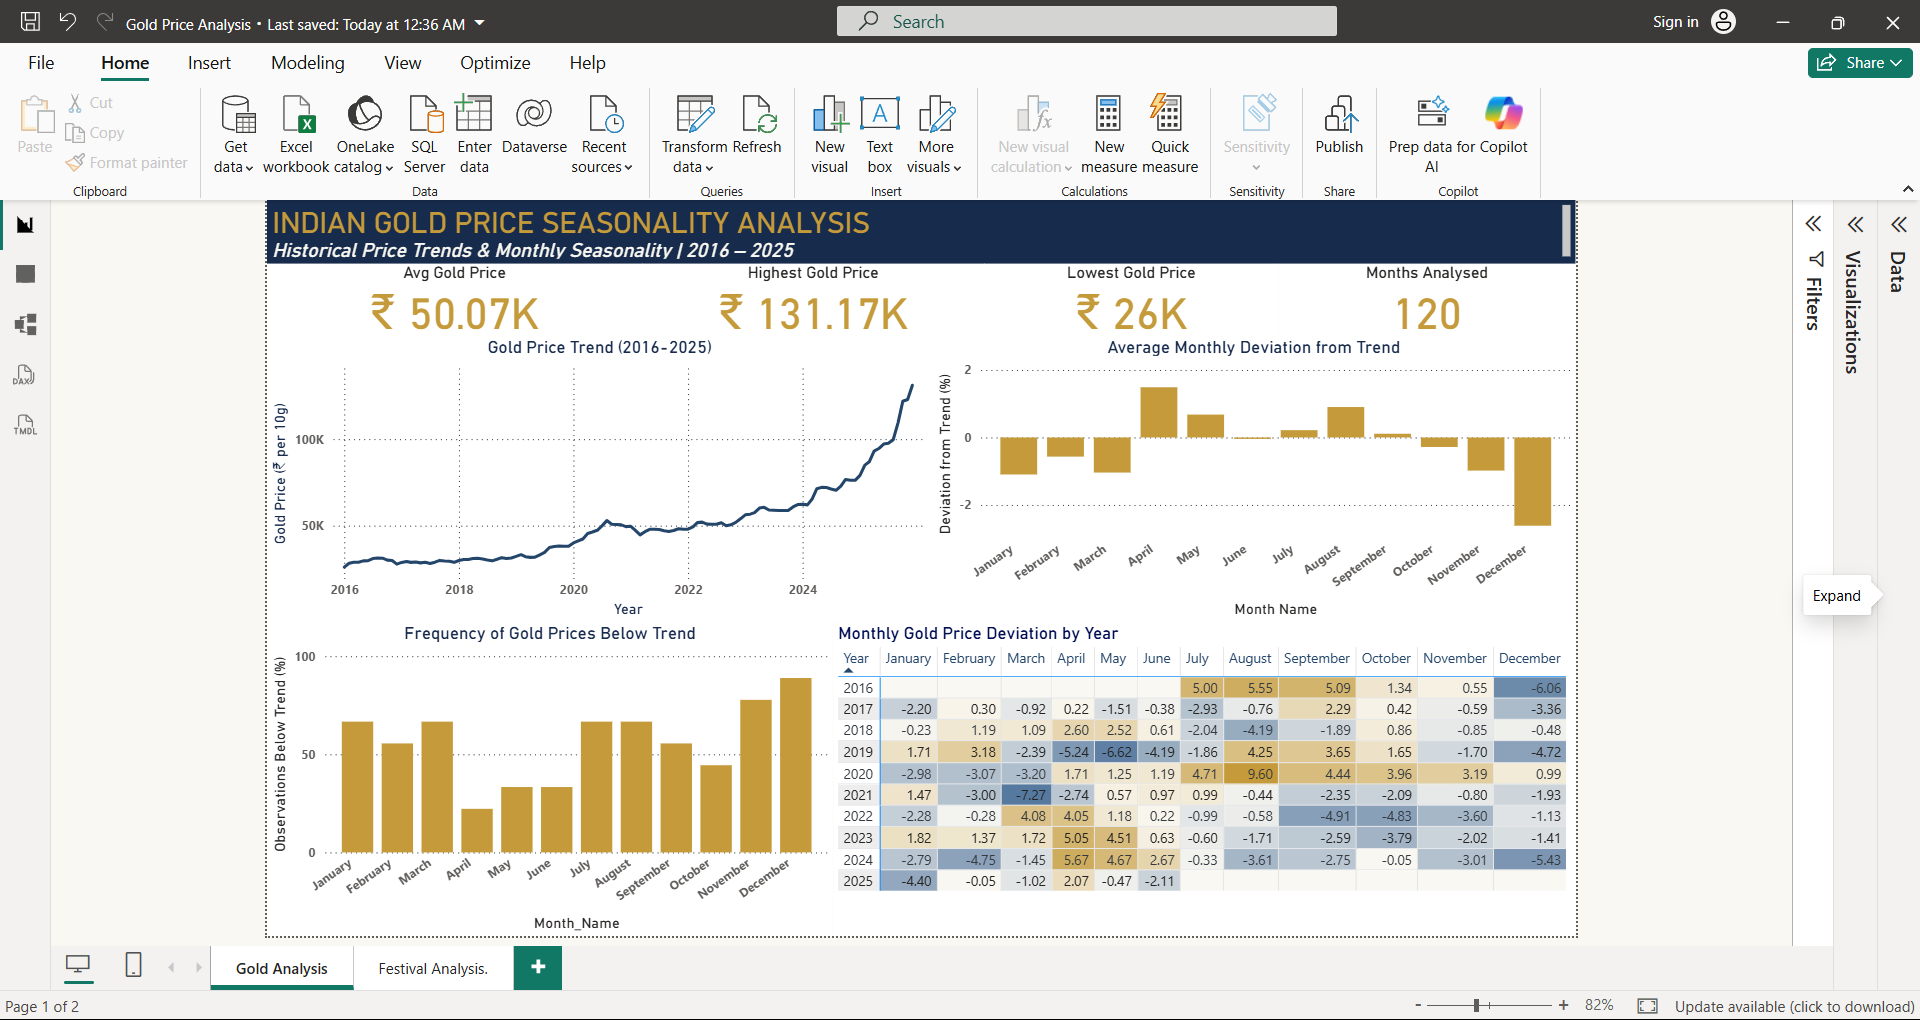

This screenshot's page, from the dashboard's own definition file:
{"tool":"powerbi","page":{"name":"Gold Analysis","canvas":[1280,720],"ordinal":0},"visuals":[{"type":"textbox","box":[0,0,1280.3,62.4],"z":0},{"type":"card","title":"Avg Gold Price","fields":{"Values":["Avg(Gold_Cleaned_Data.Gold_Price_INR_Per_10g)"]},"box":[0,62.4,366.8,70.9],"z":1000},{"type":"card","title":"Highest Gold Price","fields":{"Values":["Max(Gold_Cleaned_Data.Gold_Price_INR_Per_10g)"]},"box":[366.8,62.4,335.1,70.9],"z":2000},{"type":"card","title":"Lowest Gold Price","fields":{"Values":["Min(Gold_Cleaned_Data.Gold_Price_INR_Per_10g)"]},"box":[701.9,62.4,287.4,70.9],"z":3000},{"type":"card","title":"Months Analysed","fields":{"Values":["CountNonNull(Gold_Cleaned_Data.Date)"]},"box":[989.3,62.4,291,70.9],"z":4000},{"type":"lineChart","title":"Gold Price Trend (2016-2025)","fields":{"Y":["Avg(Gold_Cleaned_Data.Gold_Price_INR_Per_10g)"],"Category":["Gold_Cleaned_Data.Date"]},"box":[0,133.3,650.5,280],"z":6000},{"type":"clusteredColumnChart","title":"Average Monthly Deviation from Trend","fields":{"Category":["Gold_Monthly_Seasonality.Month_Name"],"Y":["Avg(Gold_Monthly_Seasonality.Average_Deviation)"]},"box":[650.5,133.3,629.8,280],"z":7000},{"type":"clusteredColumnChart","title":"Frequency of Gold Prices Below Trend","fields":{"Y":["Avg(Gold_Monthly_Seasonality.Percentage_Below_Trend)"],"Category":["Gold_Monthly_Seasonality.Month_Name"]},"box":[0,413.3,553.9,306.9],"z":8000},{"type":"pivotTable","title":"Monthly Gold Price Deviation by Year","fields":{"Rows":["Gold_Cleaned_Data.Year"],"Values":["Avg(Gold_Cleaned_Data.Seasonal_Deviation_12M_%)"],"Columns":["Gold_Cleaned_Data.Month_Name"]},"box":[553.9,413.3,726.4,306.9],"z":11000}]}

Visuals, with their boxes on the page's 1280x720 design canvas (x1, y1, x2, y2). These are canvas units, not pixel positions in the 1920x1020 screenshot, which may show the page scaled, cropped or inside an application window:
textbox: <region>0, 0, 1280, 62</region>
"Avg Gold Price" card: <region>0, 62, 367, 133</region>
"Highest Gold Price" card: <region>367, 62, 702, 133</region>
"Lowest Gold Price" card: <region>702, 62, 989, 133</region>
"Months Analysed" card: <region>989, 62, 1280, 133</region>
"Gold Price Trend (2016-2025)" lineChart: <region>0, 133, 650, 413</region>
"Average Monthly Deviation from Trend" clusteredColumnChart: <region>650, 133, 1280, 413</region>
"Frequency of Gold Prices Below Trend" clusteredColumnChart: <region>0, 413, 554, 720</region>
"Monthly Gold Price Deviation by Year" pivotTable: <region>554, 413, 1280, 720</region>
